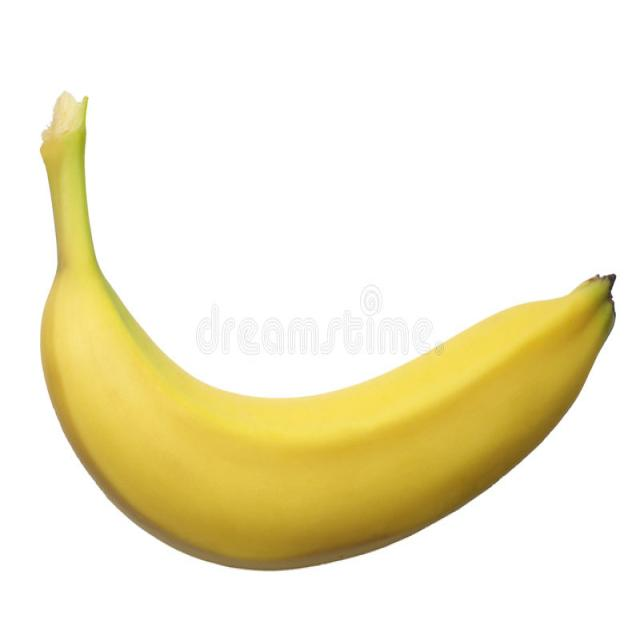non_orange: (34, 88, 616, 582)
